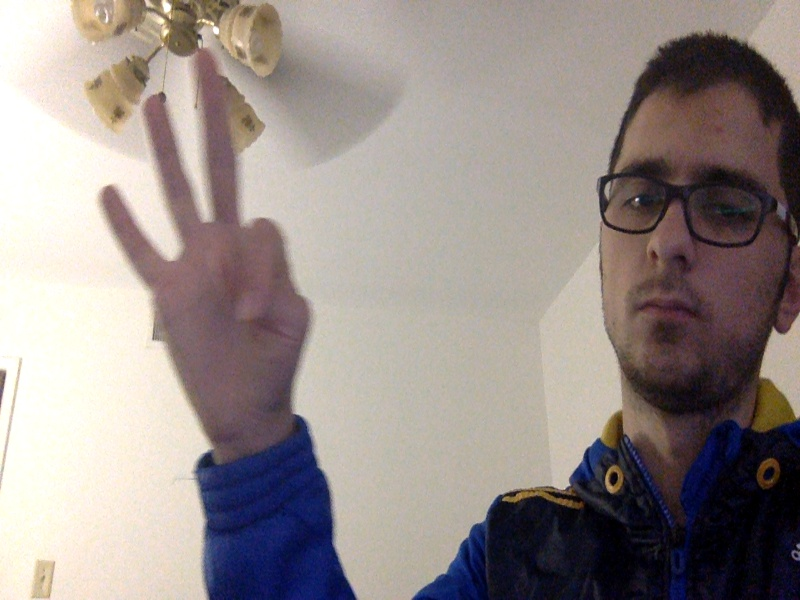3-hand: (98, 55, 313, 440)
